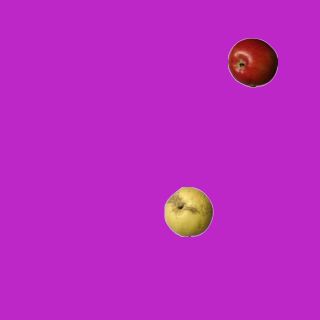Apple Braeburn: (227, 37, 277, 87)
Apple Golden 1: (163, 186, 213, 236)
